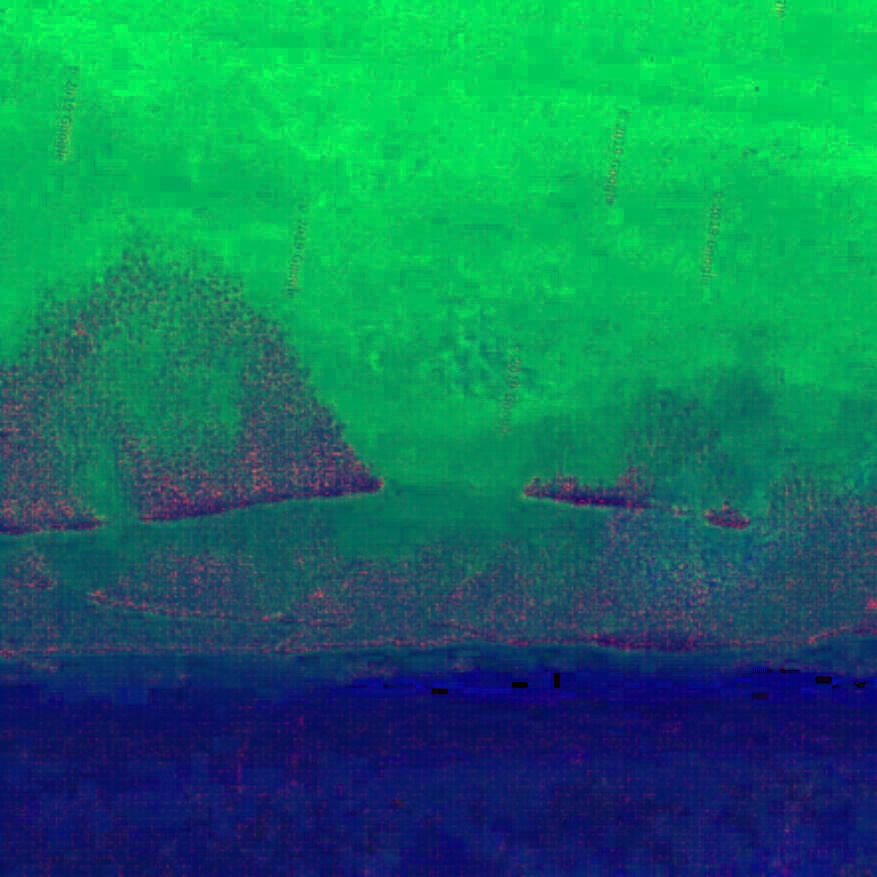rip_current: (228, 281, 576, 577)
